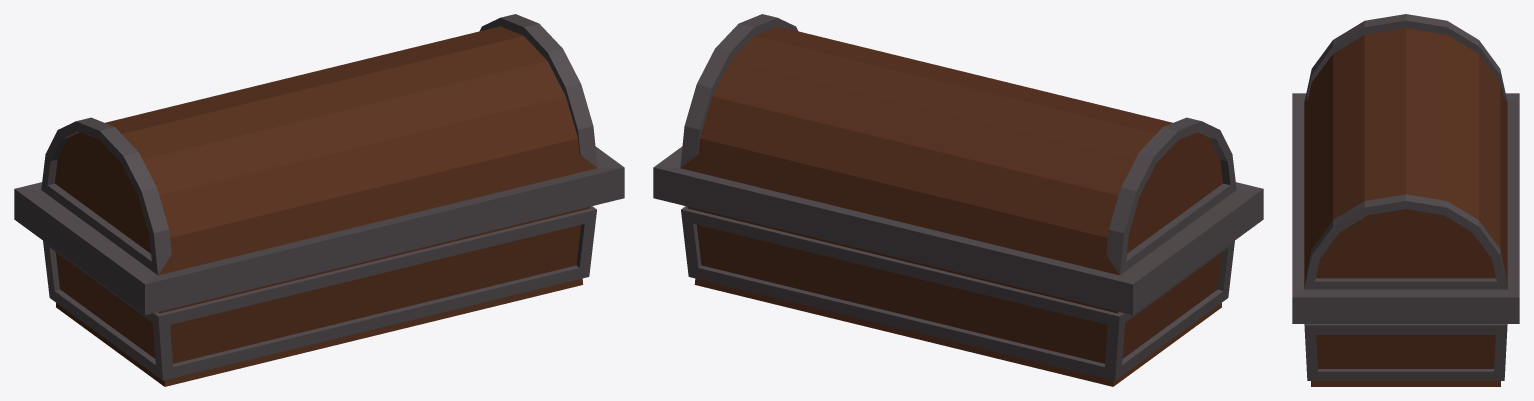
File: Chest.gltf
3 views of the same model, side by side, from view 1: azimuth 30°, elevation 25°; view 2: azimuth 150°, elevation 25°; view 3: azimuth 270°, elevation 25° (orthographic). The views are drawn at different scales.
Visible parts, largest first — view 1: Plane.001, Plane.002; view 2: Plane.001, Plane.002; view 3: Plane.001, Plane.002.
Boxes of the visible parts, left/top/right/bottom form: Plane.001: left=14, top=14, right=624, bottom=314; Plane.002: left=43, top=206, right=596, bottom=386; Plane.001: left=653, top=14, right=1263, bottom=314; Plane.002: left=681, top=206, right=1234, bottom=386; Plane.001: left=1292, top=14, right=1519, bottom=323; Plane.002: left=1304, top=324, right=1507, bottom=386.
Bounding box in the file's own units: 2.18 × 0.9512 × 1.03.
